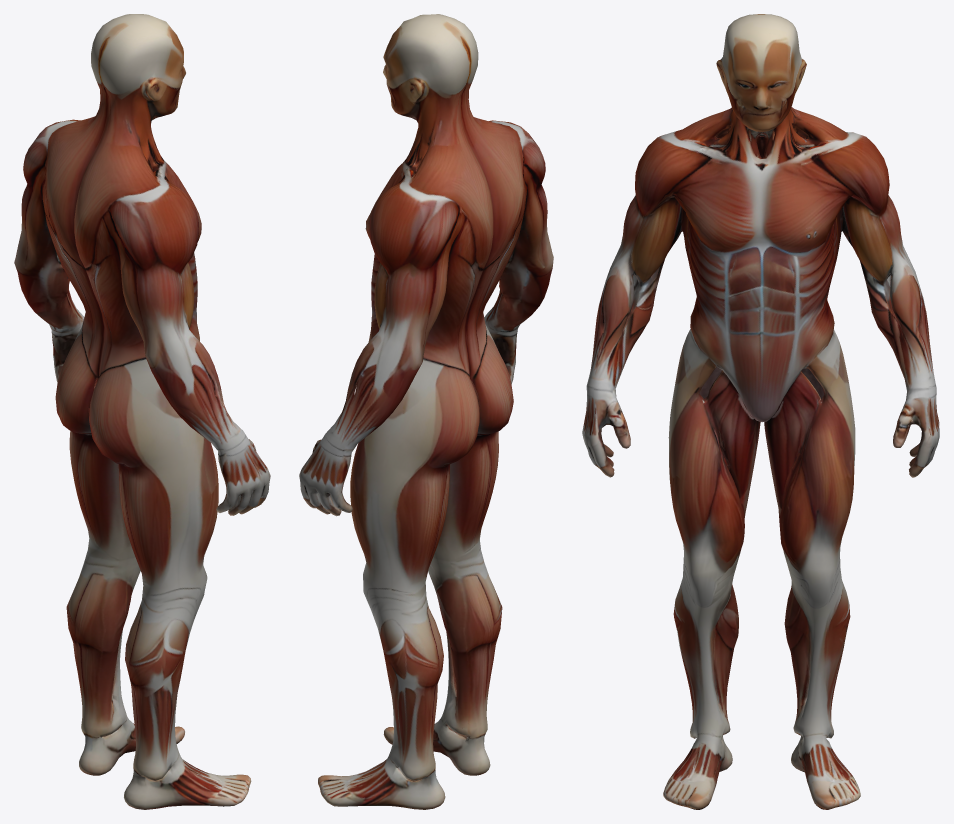
The model's file is muscle_model.glb.
3 renders of one model, left to right at view 1: azimuth 30°, elevation 25°; view 2: azimuth 150°, elevation 25°; view 3: azimuth 270°, elevation 25°, orthographic.
Visible parts, largest first — view 1: tripo_node_d9c8d9d8; view 2: tripo_node_d9c8d9d8; view 3: tripo_node_d9c8d9d8.
Boxes of the visible parts, left/top/right/bottom form: tripo_node_d9c8d9d8: left=14, top=14, right=270, bottom=809; tripo_node_d9c8d9d8: left=299, top=14, right=553, bottom=809; tripo_node_d9c8d9d8: left=582, top=14, right=939, bottom=809.
Bounding box in the file's own units: 0.2106 × 0.9998 × 0.4276.
1 material, 1 textured.
